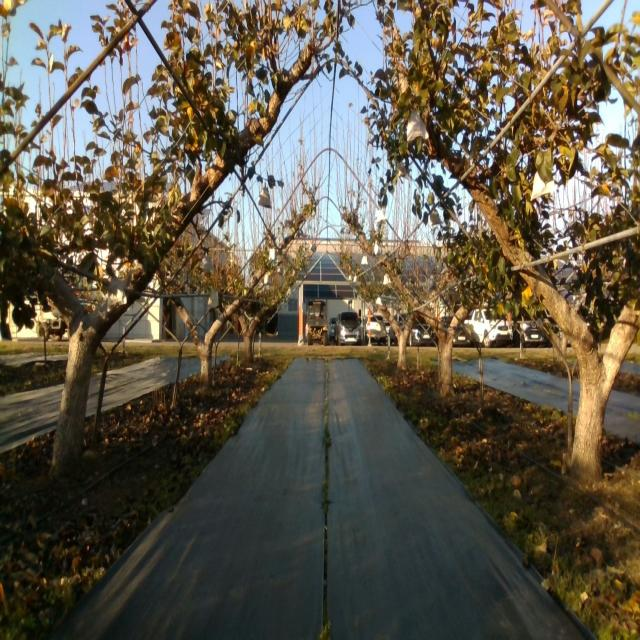pearbags: (107, 272, 127, 313), (406, 108, 429, 142), (530, 170, 556, 198), (258, 182, 272, 210), (200, 252, 215, 273)
